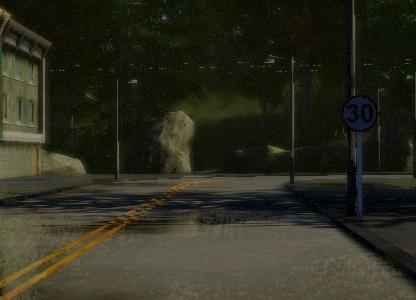Speed_30: (338, 94, 382, 135)
